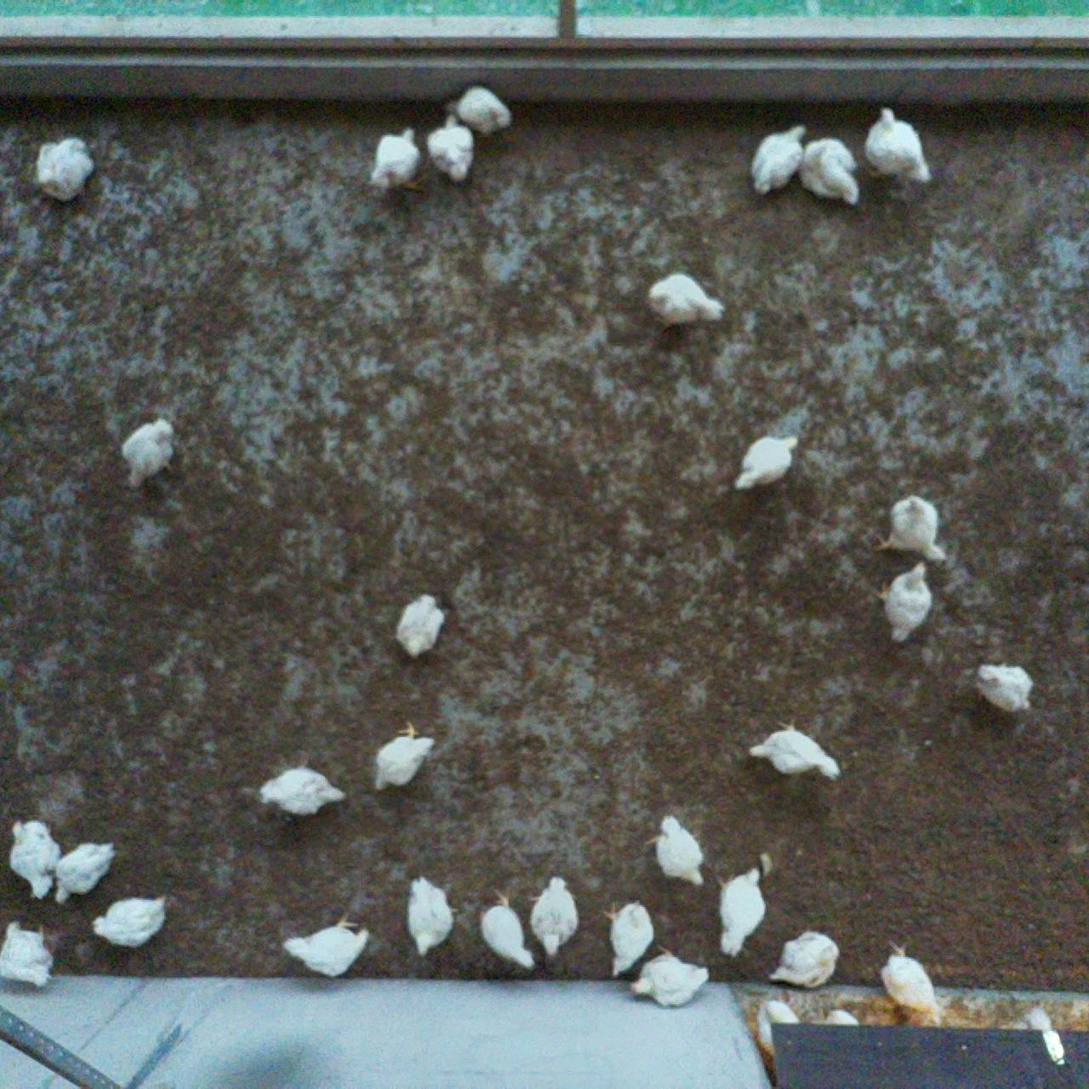chicken: (745, 716, 841, 783), (871, 492, 950, 566), (284, 916, 371, 983), (862, 102, 932, 185), (369, 717, 436, 799), (480, 882, 539, 974), (878, 937, 941, 1023), (625, 951, 714, 1011), (254, 757, 347, 814), (646, 272, 731, 332), (728, 430, 804, 496), (121, 418, 185, 494), (875, 560, 932, 645), (90, 893, 174, 950), (799, 135, 864, 207), (6, 815, 60, 901), (30, 134, 97, 203), (53, 838, 119, 908), (748, 122, 808, 198), (647, 812, 704, 892), (717, 866, 767, 957), (604, 898, 657, 982), (368, 126, 430, 197), (404, 876, 457, 958), (529, 872, 579, 958), (773, 931, 843, 992), (0, 915, 56, 991), (445, 83, 515, 142), (975, 658, 1037, 719), (393, 591, 447, 661), (752, 994, 809, 1059), (425, 113, 476, 184), (811, 1006, 867, 1069)
